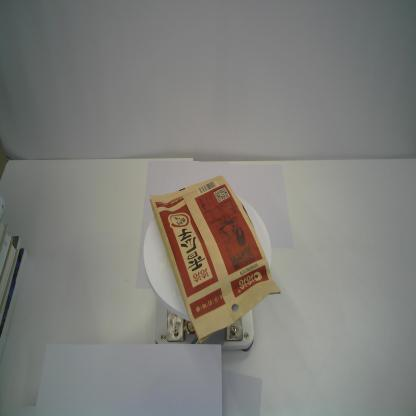Dried Food: (147, 173, 283, 346)
